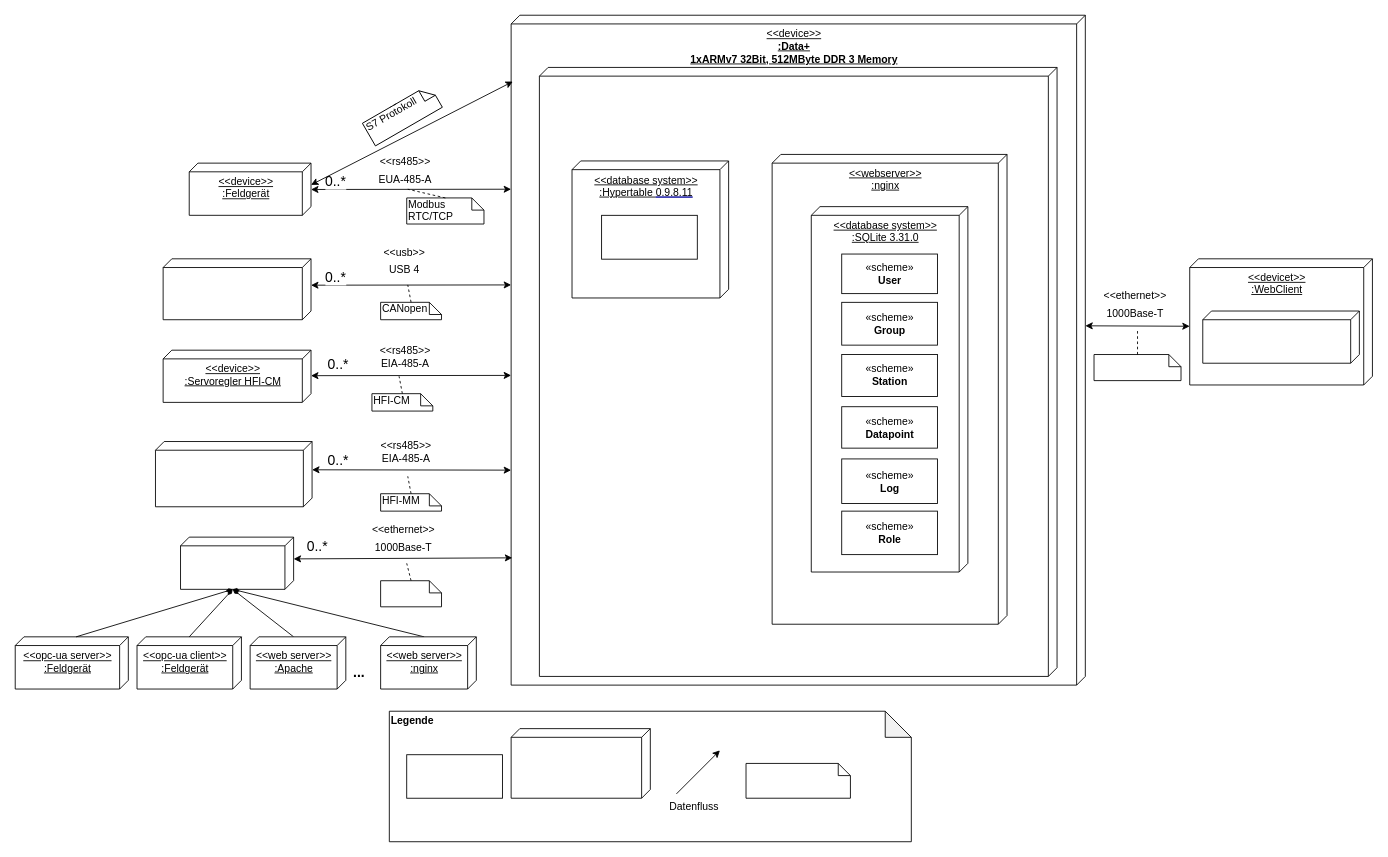
The diagram is 1388 pixels wide and 857 high, and some of its shapes have lost their labels. The box of each missing label's shape, as (x1, y1, x2, y2) in pixels:
<<device>> :Applicationserver: (180, 536, 294, 589)
<<device>> :Drehzahlvariabler Antrieb DVA-Kit: (162, 258, 311, 320)
<<device>> :Motormontierter Frequenzumrichter HFI-MM: (155, 441, 312, 507)
<<execution environment>> :web browser: (1202, 310, 1359, 363)
<<name>> :name Execution Environment: (510, 728, 650, 798)
<<OS>> :Damn Small Linux: (539, 67, 1057, 676)
Communication-protocol(s): (745, 763, 850, 798)
HTTP1.0, HTTP 1.1,: (380, 580, 442, 607)
HTTP1.0, HTTP1.1: (1093, 354, 1181, 381)
«name» Deployed Artifact: (406, 754, 502, 798)
«scheme» Data: (601, 214, 697, 259)
